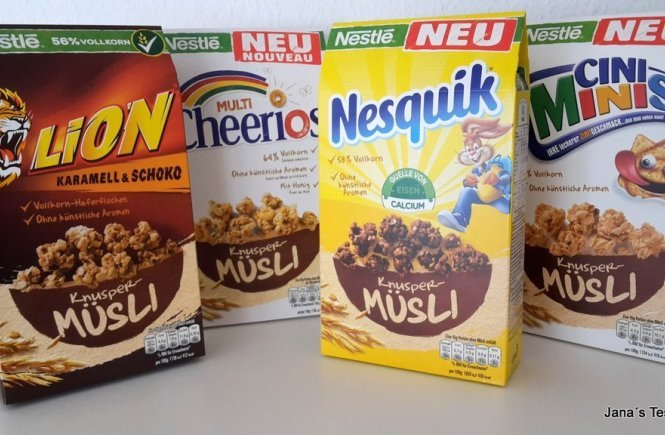cereals: (1, 24, 205, 408)
